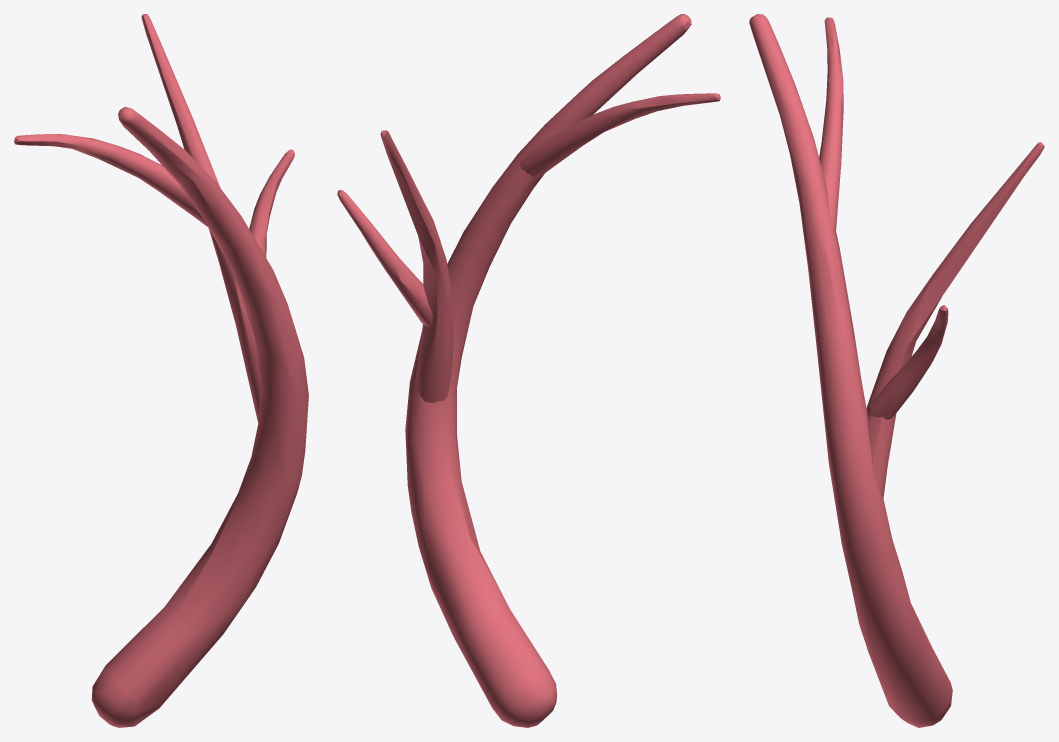
File: fma8634_cx262.glb
3 renders of one model, left to right at view 1: azimuth 30°, elevation 25°; view 2: azimuth 150°, elevation 25°; view 3: azimuth 270°, elevation 25°, orthographic. The views are drawn at different scales.
Visible parts, largest first — view 1: FMA8634_CX262; view 2: FMA8634_CX262; view 3: FMA8634_CX262.
Part boxes in pixels (x1,y1,x2,y2): FMA8634_CX262: (14, 14, 308, 727); FMA8634_CX262: (337, 14, 720, 727); FMA8634_CX262: (749, 14, 1044, 727).
Bounding box in the file's own units: 0.0371 × 0.073 × 0.0291.
